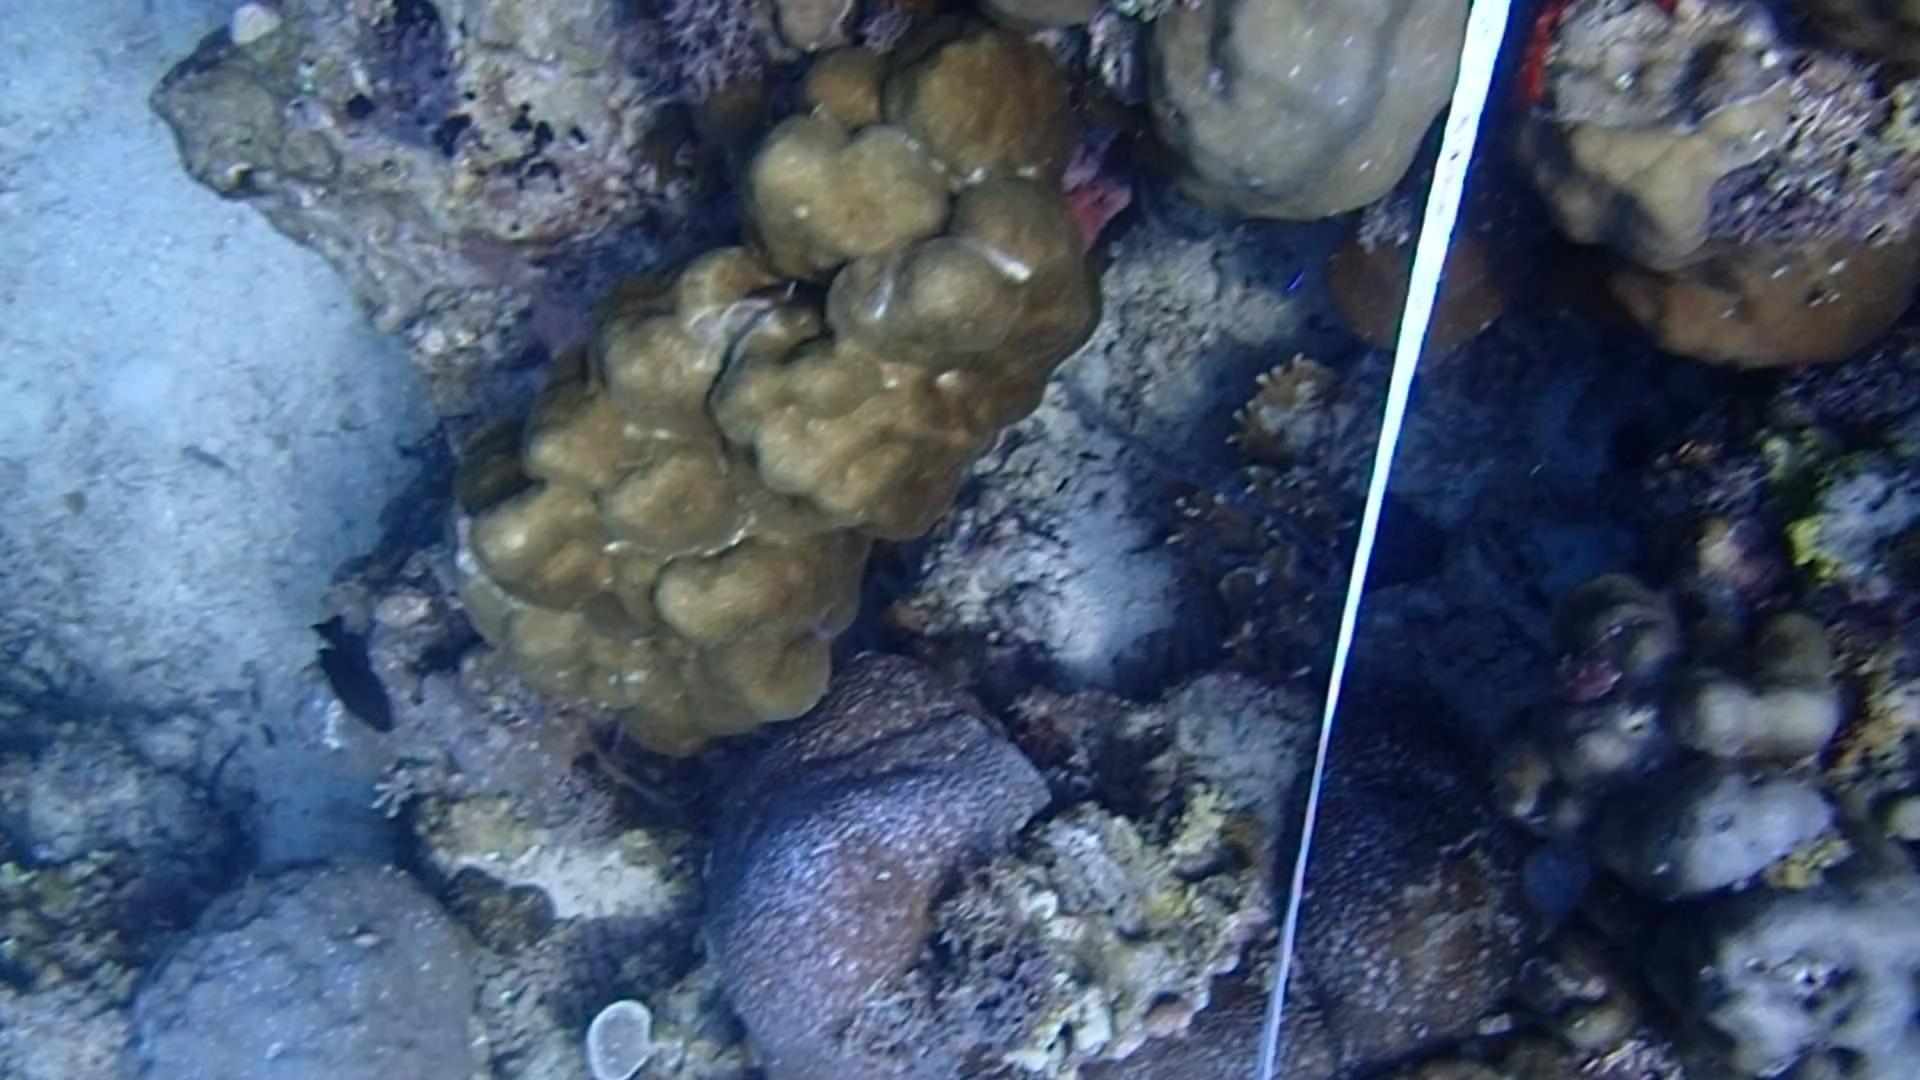Dark Fish: (291, 609, 404, 742)
